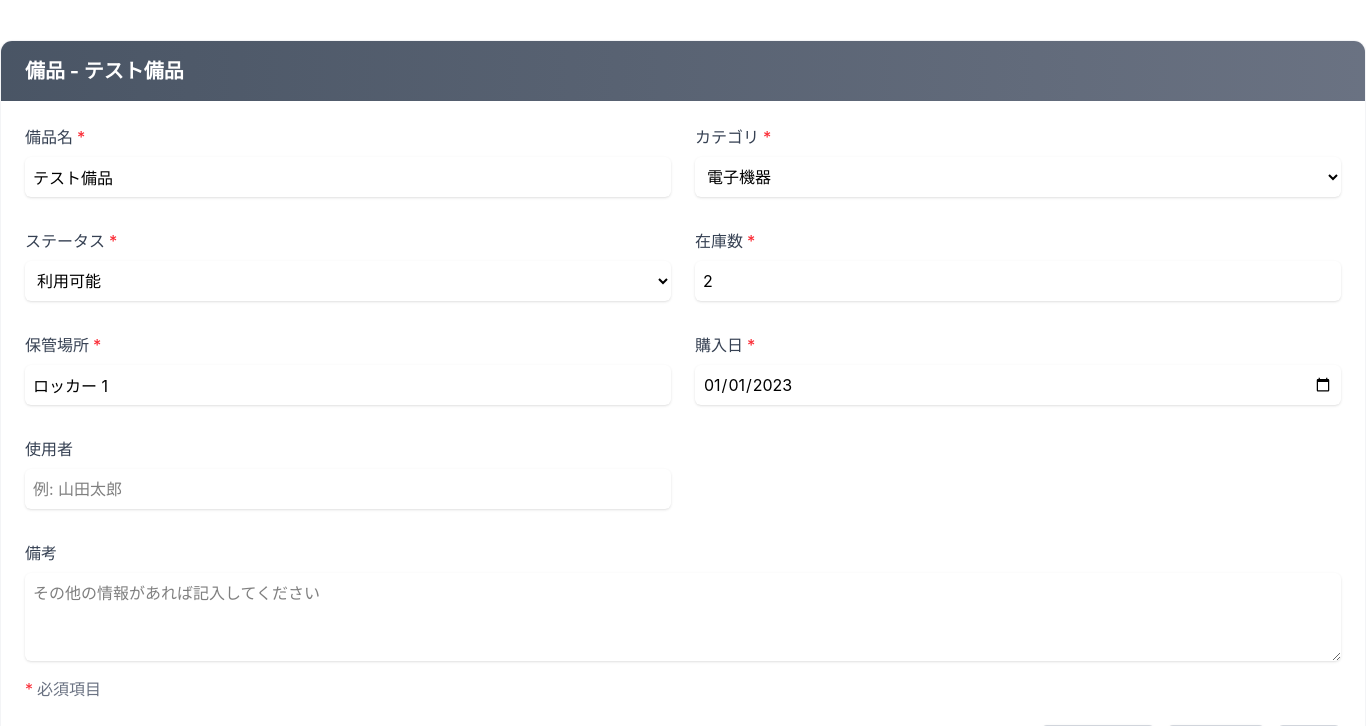
Test case: EditEquipmentForm コンポーネント › フォームバリデーション › 必須フィールドのバリデーション › 保管場所が空の場合にエラーメッセージが表示される
Clear the field labelled "保管場所*": (348, 385) left=25, top=365, right=671, bottom=405
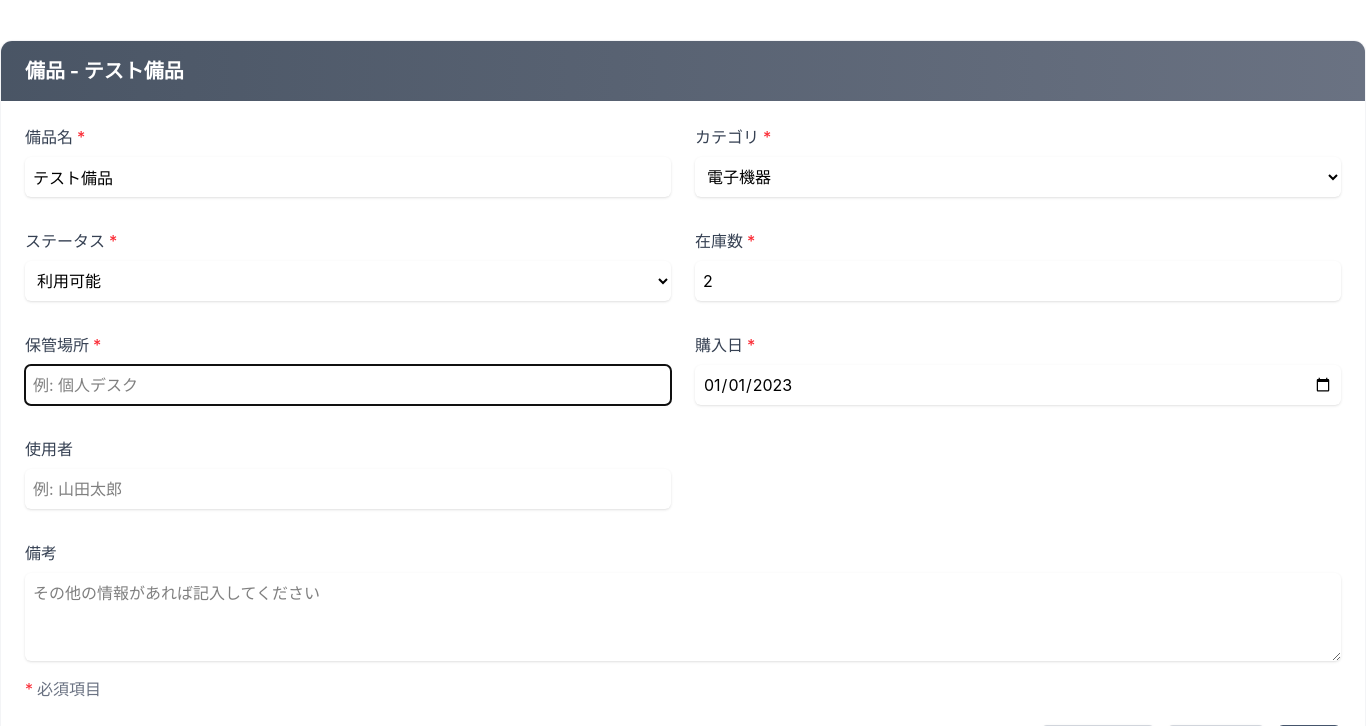
Press Tab
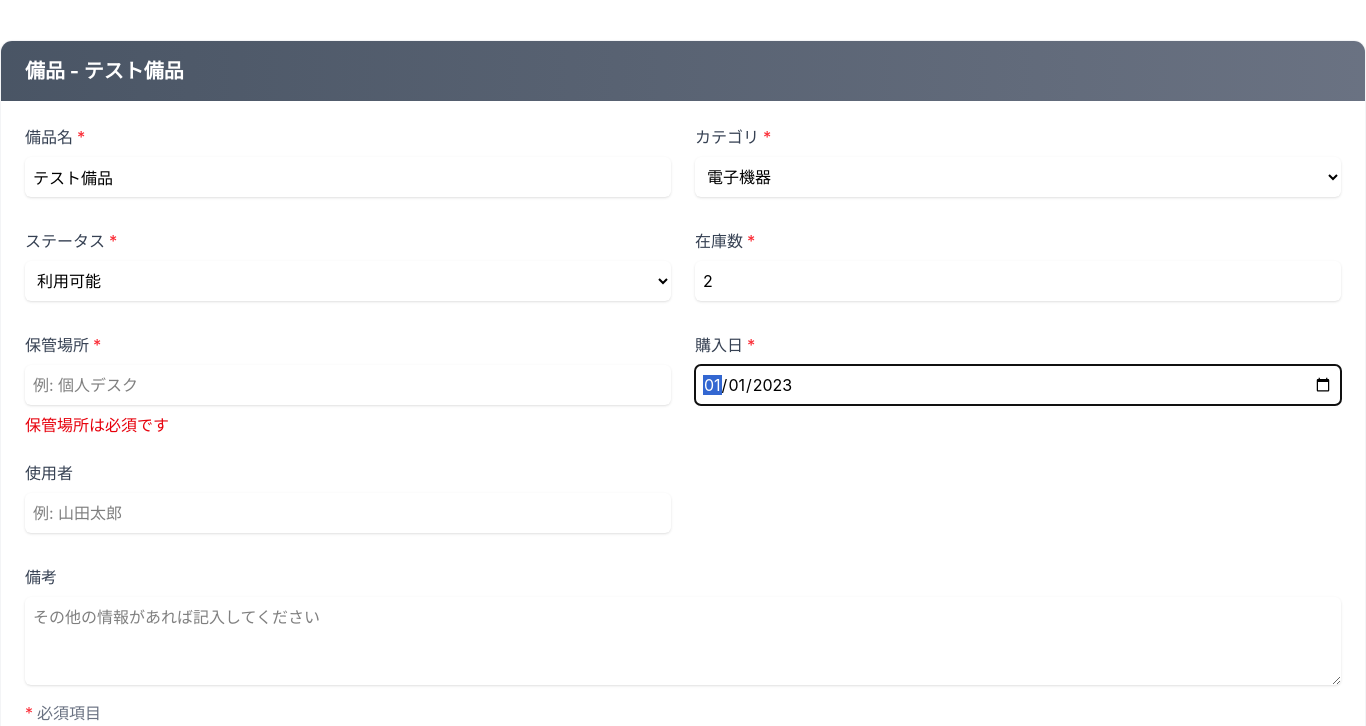
Expected: the text "保管場所は必須です" is shown, left=25, top=415, right=169, bottom=435
